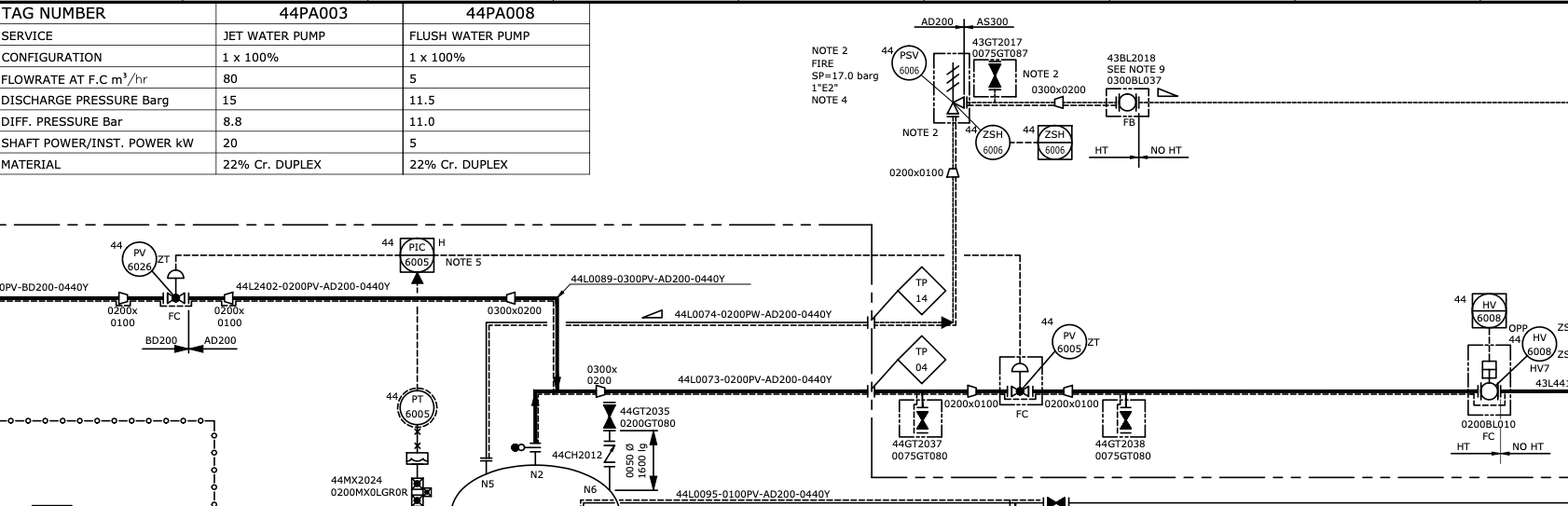Instrument: (385, 380, 437, 431), (1030, 314, 1089, 358), (964, 119, 1012, 166), (874, 42, 930, 81), (1509, 326, 1560, 364)
Instrument-square: (1018, 121, 1080, 163), (1451, 292, 1512, 331), (382, 235, 439, 276), (108, 236, 159, 279)
